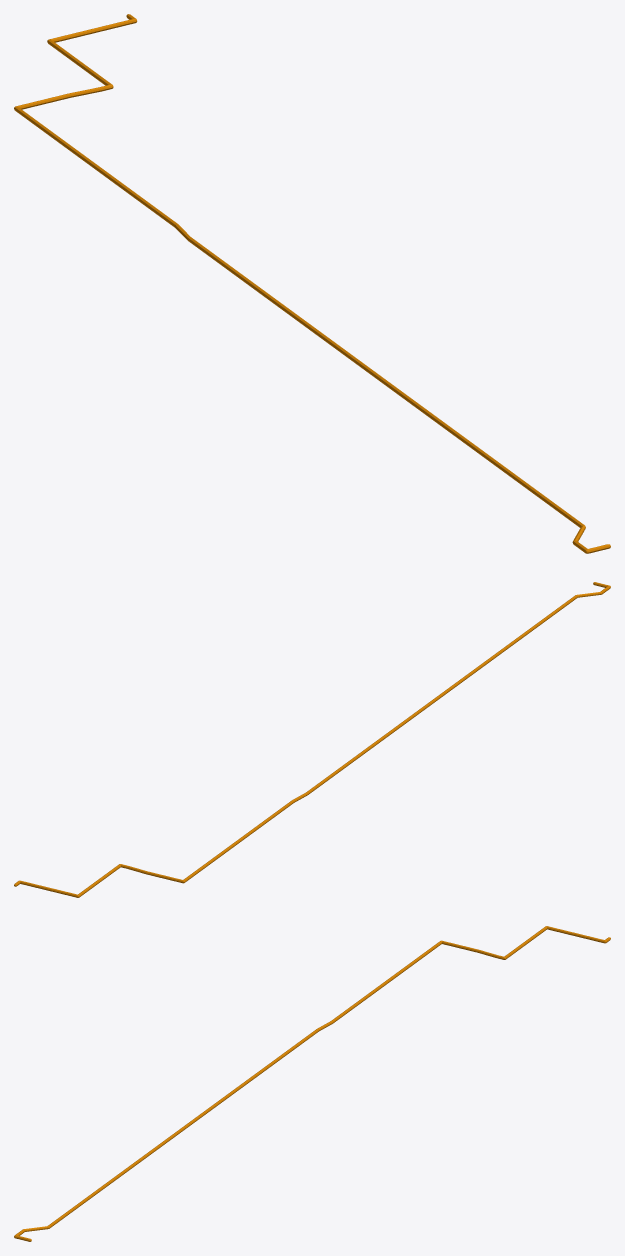
3 views of the same model, one above another, from view 1: azimuth 30°, elevation 25°; view 2: azimuth 150°, elevation 25°; view 3: azimuth 330°, elevation 25° (orthographic). The views are drawn at different scales.
Size of the model in its own units: 979 by 20 by 5403.
